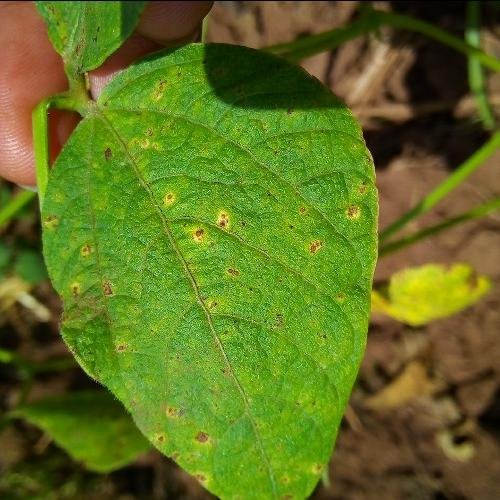mozaik: (100, 72, 349, 487)
